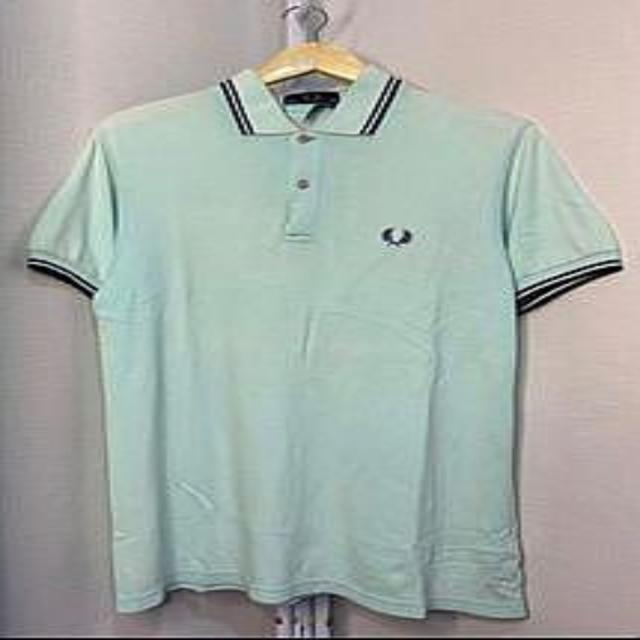T_SHIRT: (3, 45, 640, 628)
